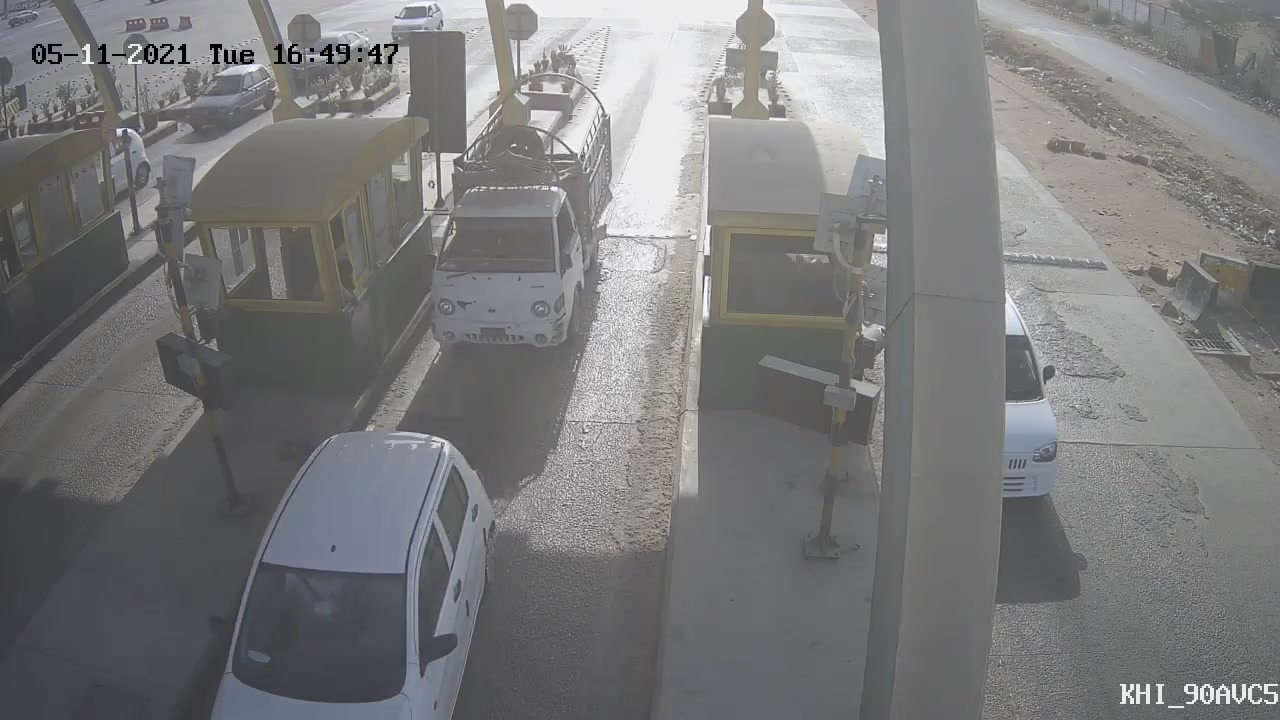F2: (418, 61, 631, 366)
